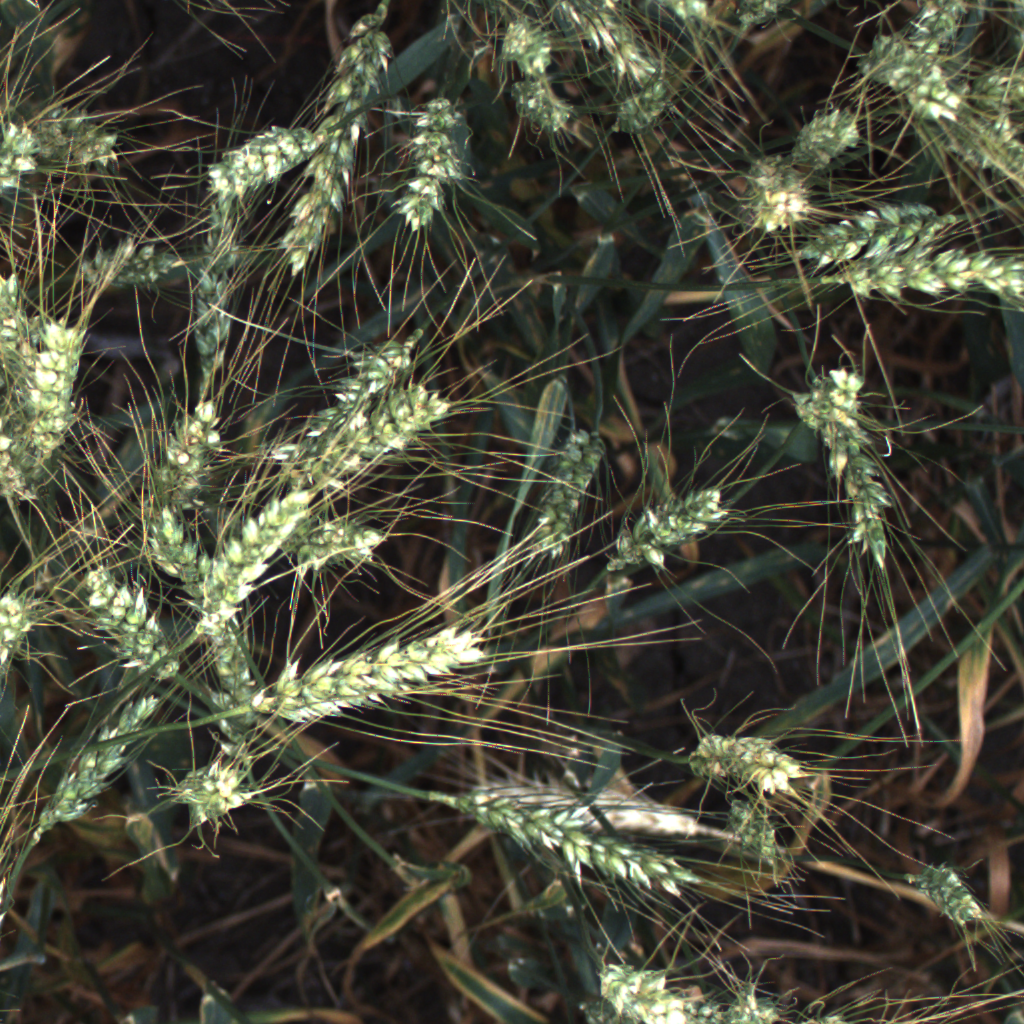wheat_head: (282, 0, 401, 284), (238, 619, 505, 724), (445, 795, 705, 899), (275, 323, 433, 458), (796, 388, 898, 576), (27, 694, 160, 836), (196, 483, 320, 635), (307, 375, 468, 488), (79, 554, 185, 690), (391, 97, 486, 244), (206, 101, 344, 202), (791, 194, 971, 265), (529, 414, 616, 560), (24, 306, 95, 482), (194, 175, 250, 388), (606, 479, 720, 578), (850, 32, 964, 127), (828, 251, 1024, 305), (686, 713, 808, 794), (144, 394, 227, 512), (732, 154, 825, 247), (592, 959, 716, 1024), (805, 345, 891, 438), (561, 4, 664, 79), (715, 782, 796, 874), (779, 103, 861, 187), (175, 750, 256, 835), (46, 96, 125, 182), (902, 860, 990, 937), (295, 509, 394, 577), (72, 240, 186, 292), (948, 116, 1024, 191), (607, 82, 682, 149), (153, 505, 207, 598), (0, 579, 49, 679), (892, 0, 980, 54), (482, 12, 554, 76), (510, 84, 582, 147), (0, 258, 34, 391), (0, 111, 51, 198), (208, 622, 257, 705), (0, 402, 32, 517), (968, 68, 1024, 118), (719, 982, 779, 1024), (731, 1, 788, 33), (665, 0, 716, 25), (802, 1010, 853, 1024)
